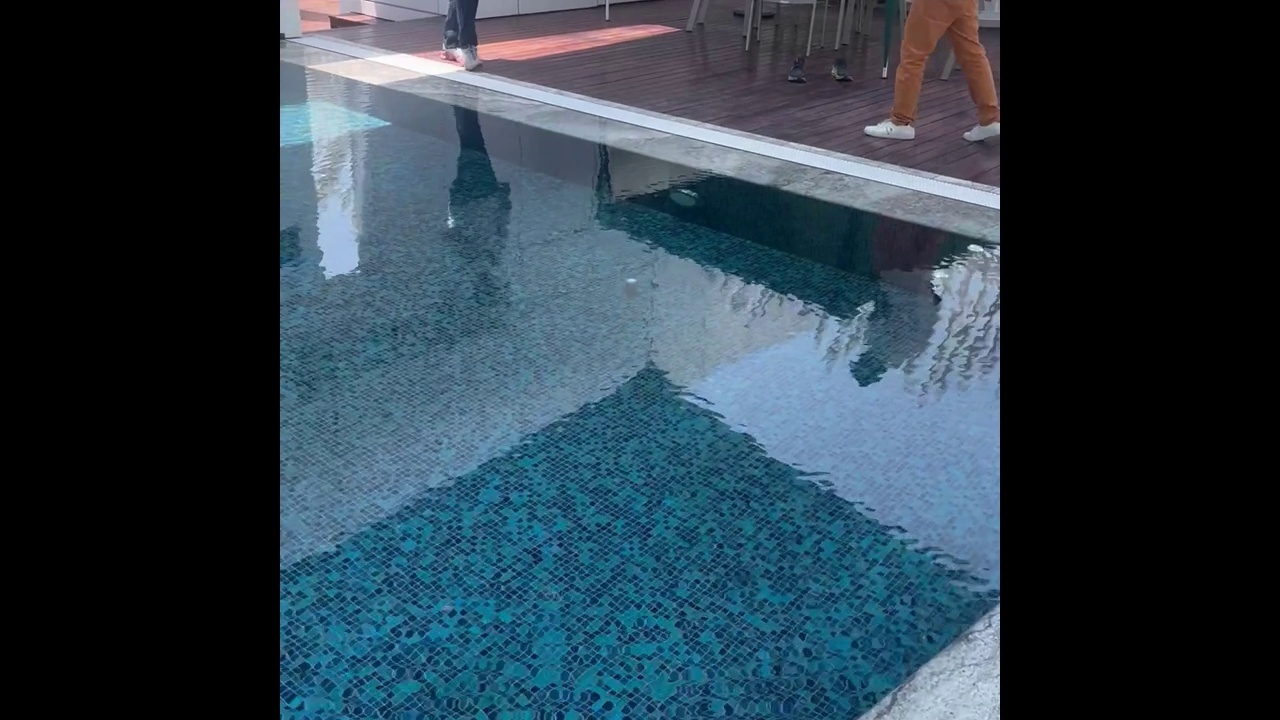debris: (963, 238, 986, 270), (930, 267, 950, 300), (620, 272, 640, 298)
